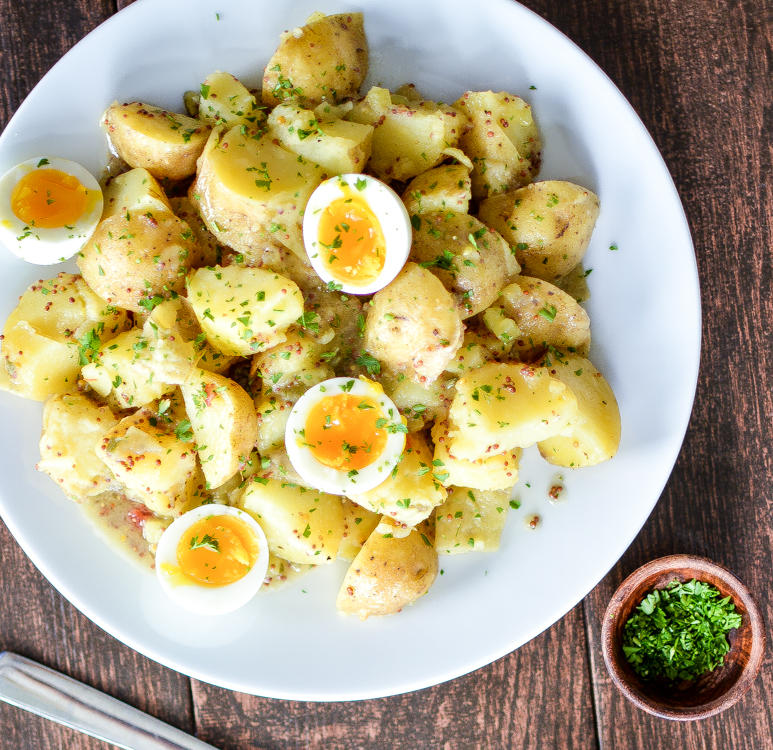boiled potatoes: (41, 282, 255, 475), (117, 100, 551, 171), (416, 322, 598, 422)
fried egg: (298, 175, 423, 288), (286, 394, 396, 471), (176, 528, 259, 586)
